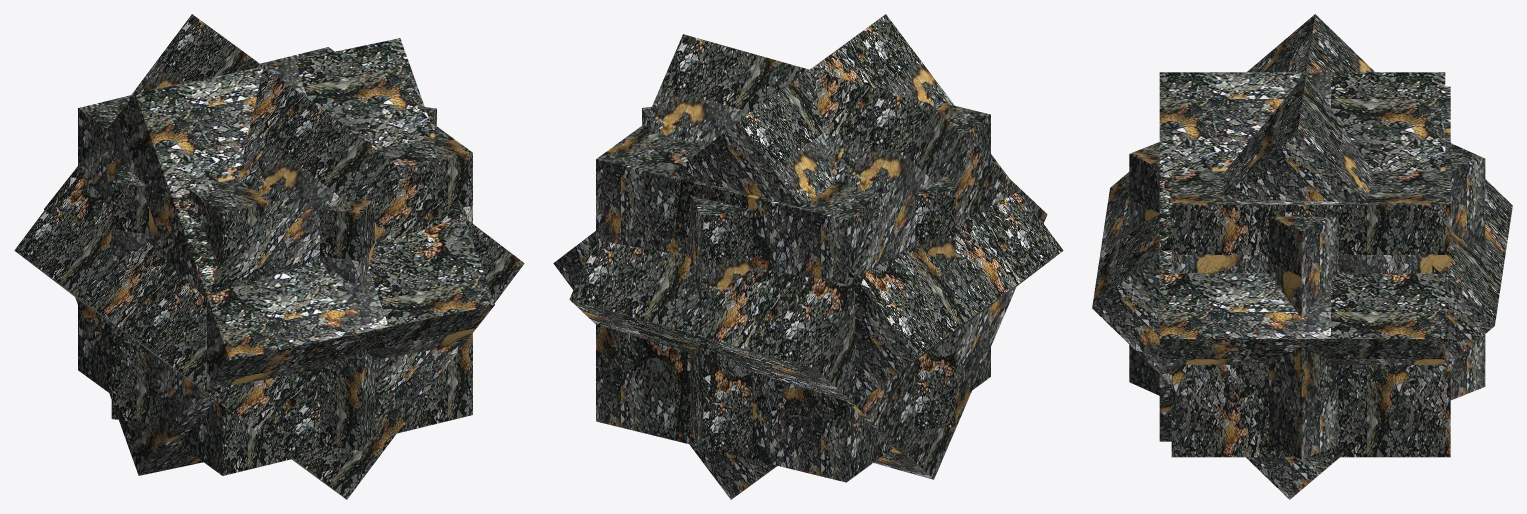
File: cronstedita.fbx
3 views of the same model, side by side, from view 1: azimuth 30°, elevation 25°; view 2: azimuth 150°, elevation 25°; view 3: azimuth 270°, elevation 25° (orthographic). The views are drawn at different scales.
Parts seen in each view (by area): view 1: pasted__pCube3, pCube3, pCube1, pCube2; view 2: pasted__pCube3, pCube1, pCube3, pCube2; view 3: pCube3, pCube1, pasted__pCube3, pCube2.
Boxes of the visible parts, <box> form: pasted__pCube3: <box>44,38,494,475</box>; pCube3: <box>14,14,524,499</box>; pCube1: <box>78,47,472,475</box>; pCube2: <box>111,107,436,450</box>; pasted__pCube3: <box>569,34,1047,479</box>; pCube1: <box>596,103,990,482</box>; pCube3: <box>553,14,1063,499</box>; pCube2: <box>642,107,955,451</box>; pCube3: <box>1159,72,1445,441</box>; pCube1: <box>1171,86,1450,457</box>; pasted__pCube3: <box>1092,14,1512,499</box>; pCube2: <box>1129,142,1485,459</box>.
Size of the model in its own units: 1.45 by 1.45 by 1.51.
1 material, 1 textured.
